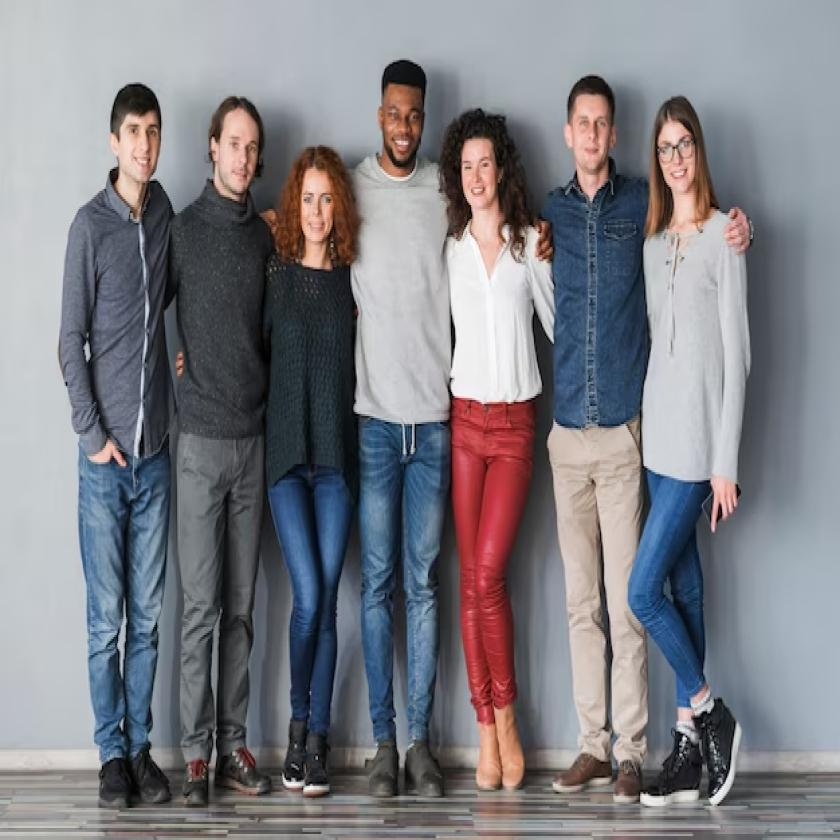Sin_casco: (443, 99, 514, 230), (647, 75, 712, 216), (99, 68, 170, 186), (203, 88, 267, 194), (373, 47, 429, 166), (284, 147, 343, 252), (564, 70, 624, 172)
